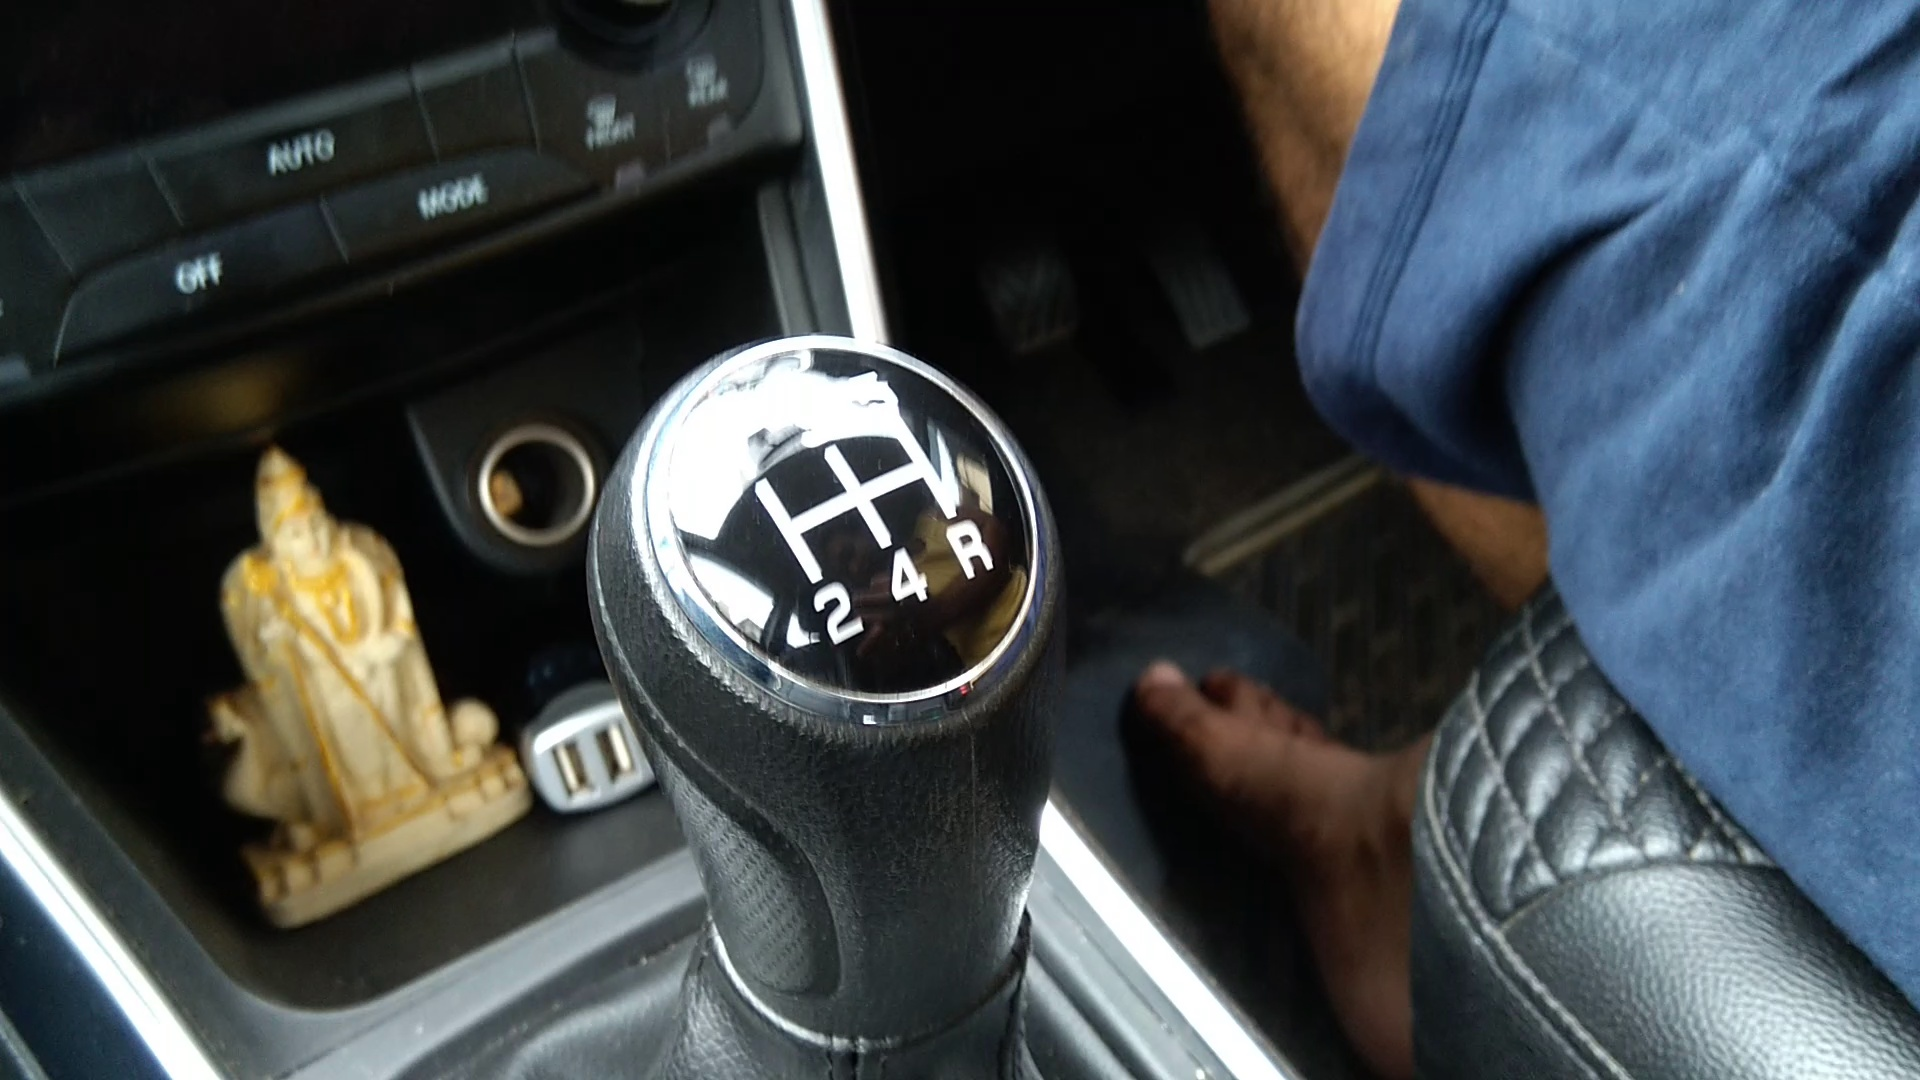manual_gear: (582, 316, 1121, 1080)
